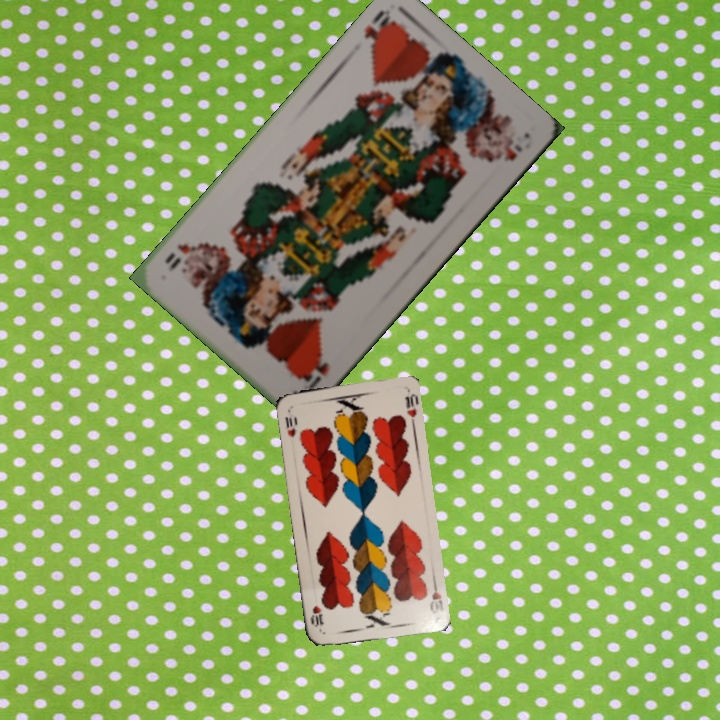H10: (426, 576, 446, 616), (281, 405, 298, 440)
HO: (360, 5, 399, 55), (296, 358, 331, 393)
